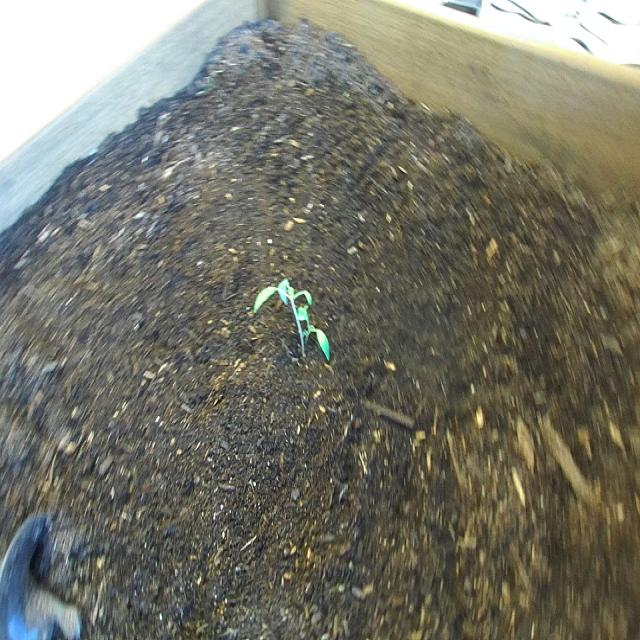Healthy: (253, 275, 335, 373)
